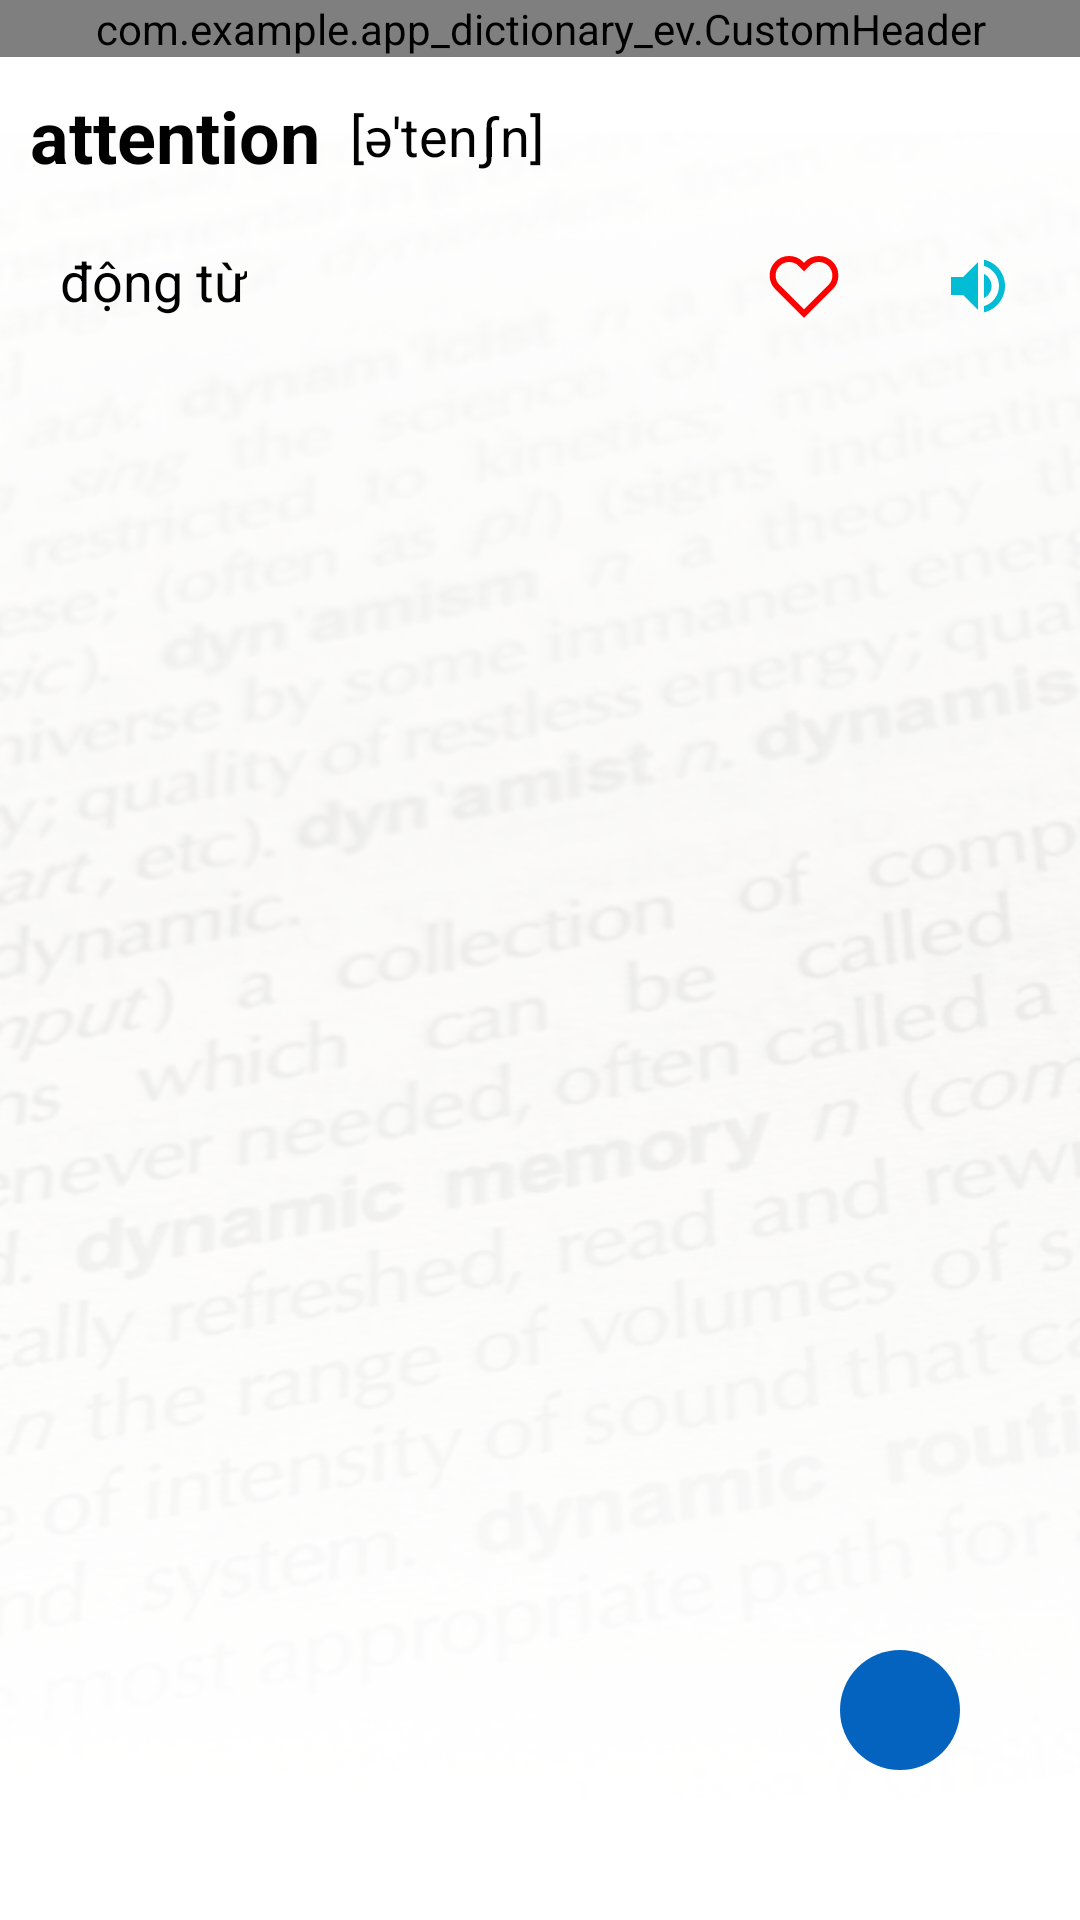

Locate icon controls on the screen. Image size 1080×1920, boxes as (x1, y1, x2, y2).
Favorite: (769, 256, 839, 318)
Play pronunciation: (951, 259, 1005, 313)
